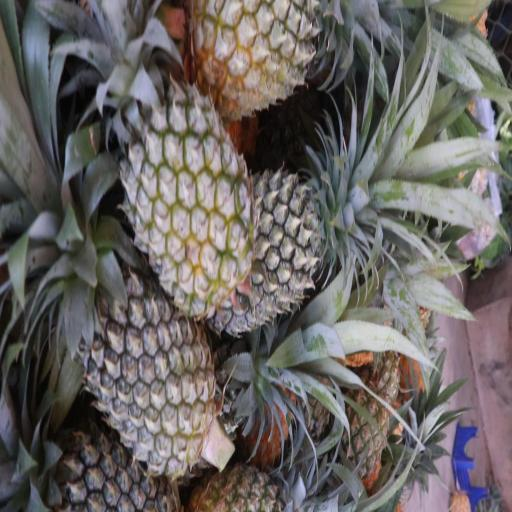------------------------------: (118, 58, 249, 302), (194, 0, 356, 117)
